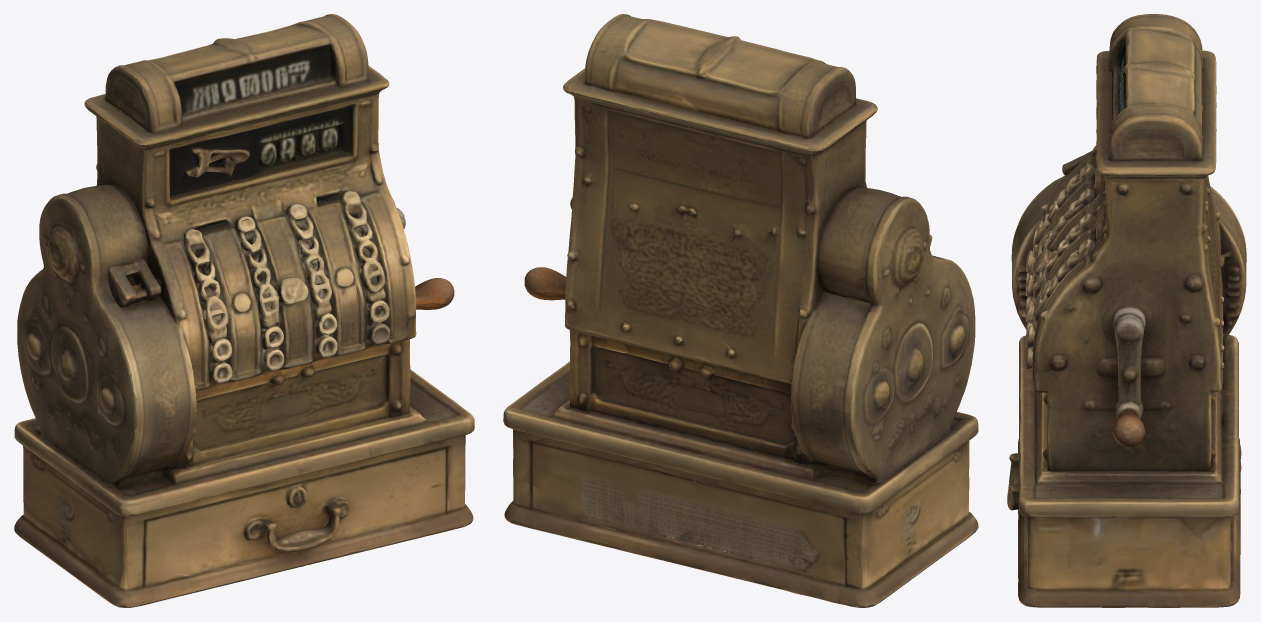
The model's file is parts.glb.
3 views of the same model, side by side, from view 1: azimuth 30°, elevation 25°; view 2: azimuth 150°, elevation 25°; view 3: azimuth 270°, elevation 25° (orthographic). The views are drawn at different scales.
Size of the model in its own units: 0.4485 by 0.52 by 0.2443.
7 materials, 7 textured.
